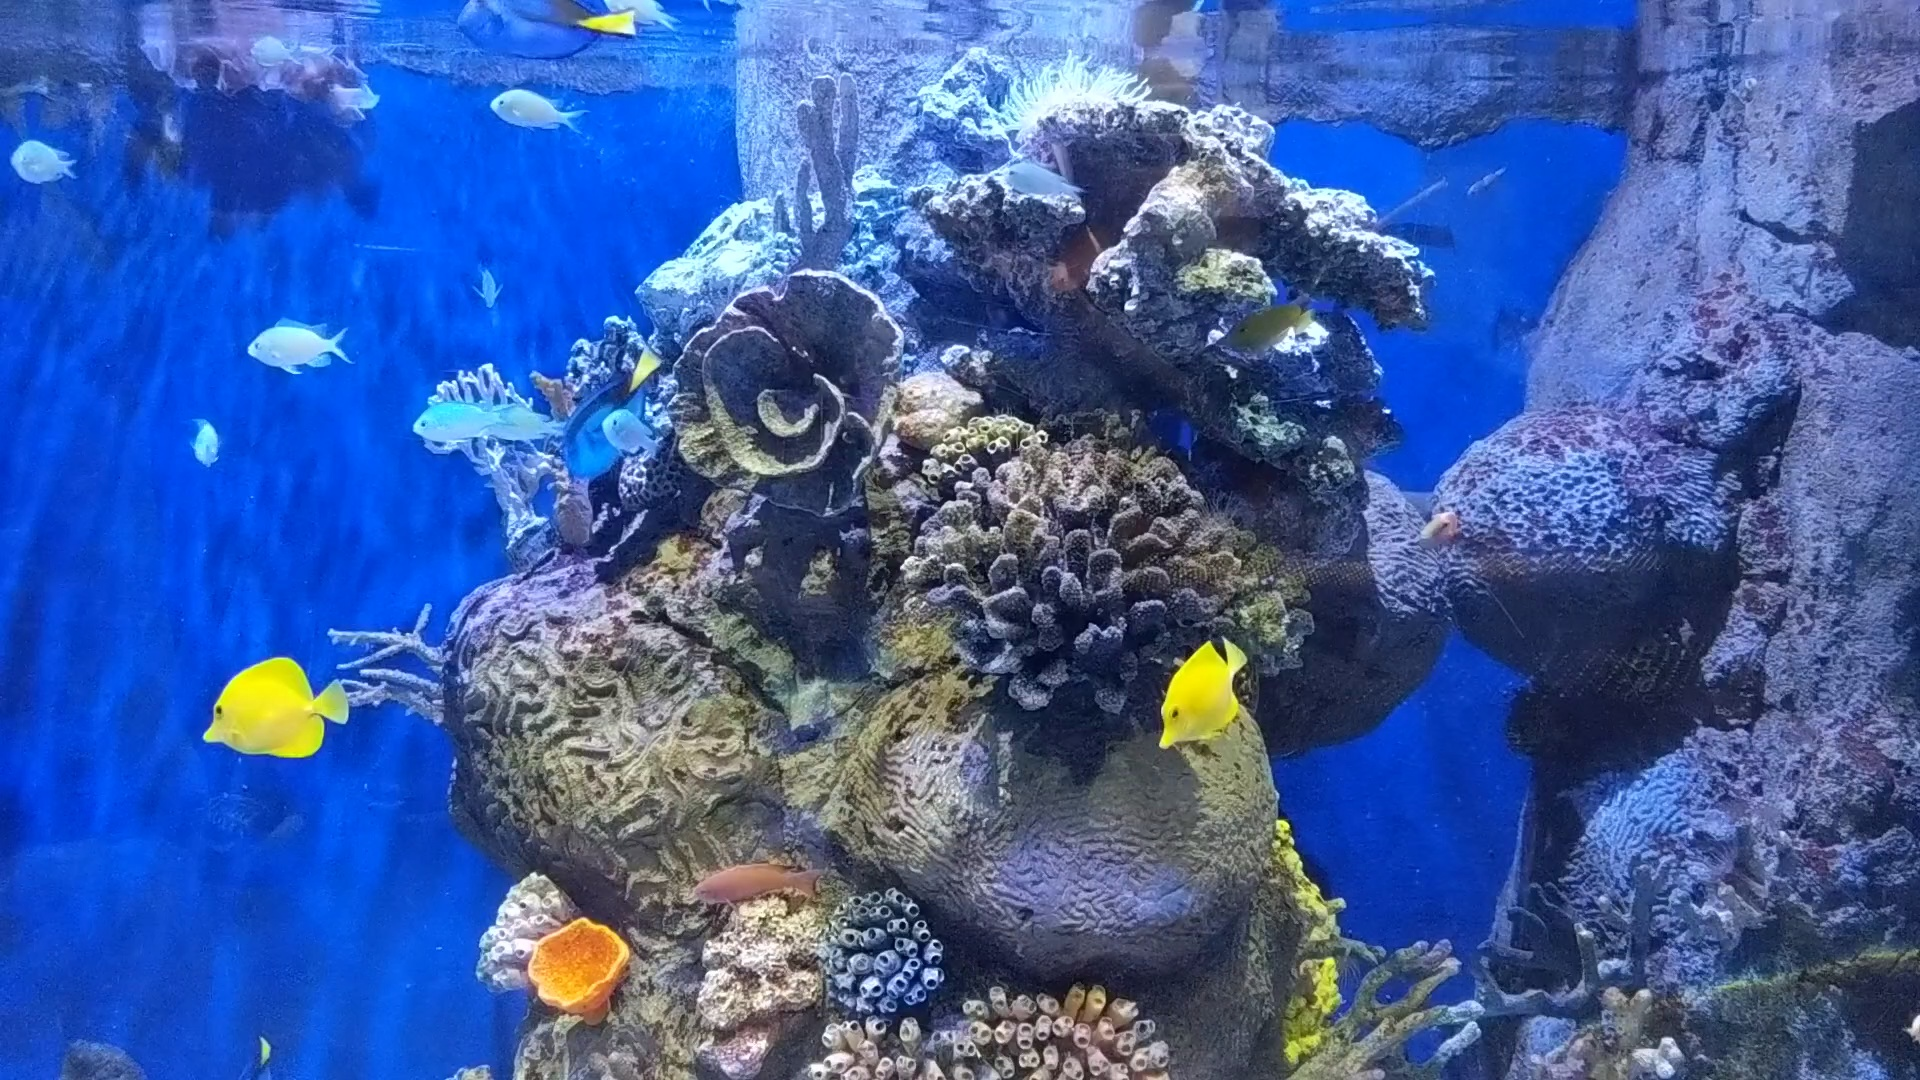blue tang surgeonfish: (549, 349, 662, 480)
damselfish: (404, 382, 516, 452), (237, 313, 349, 380), (488, 75, 582, 137), (593, 400, 662, 465), (13, 129, 79, 191)
pink fish: (1406, 498, 1476, 556)
saddle butterfly fish: (193, 658, 357, 781), (1137, 632, 1255, 758)
